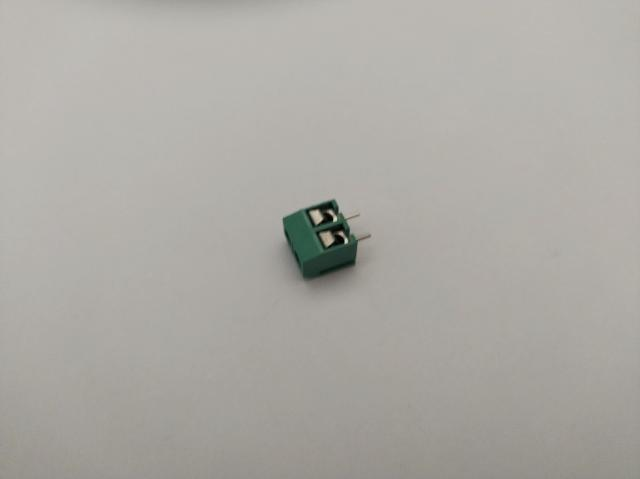terminal_block: (282, 199, 372, 281)
